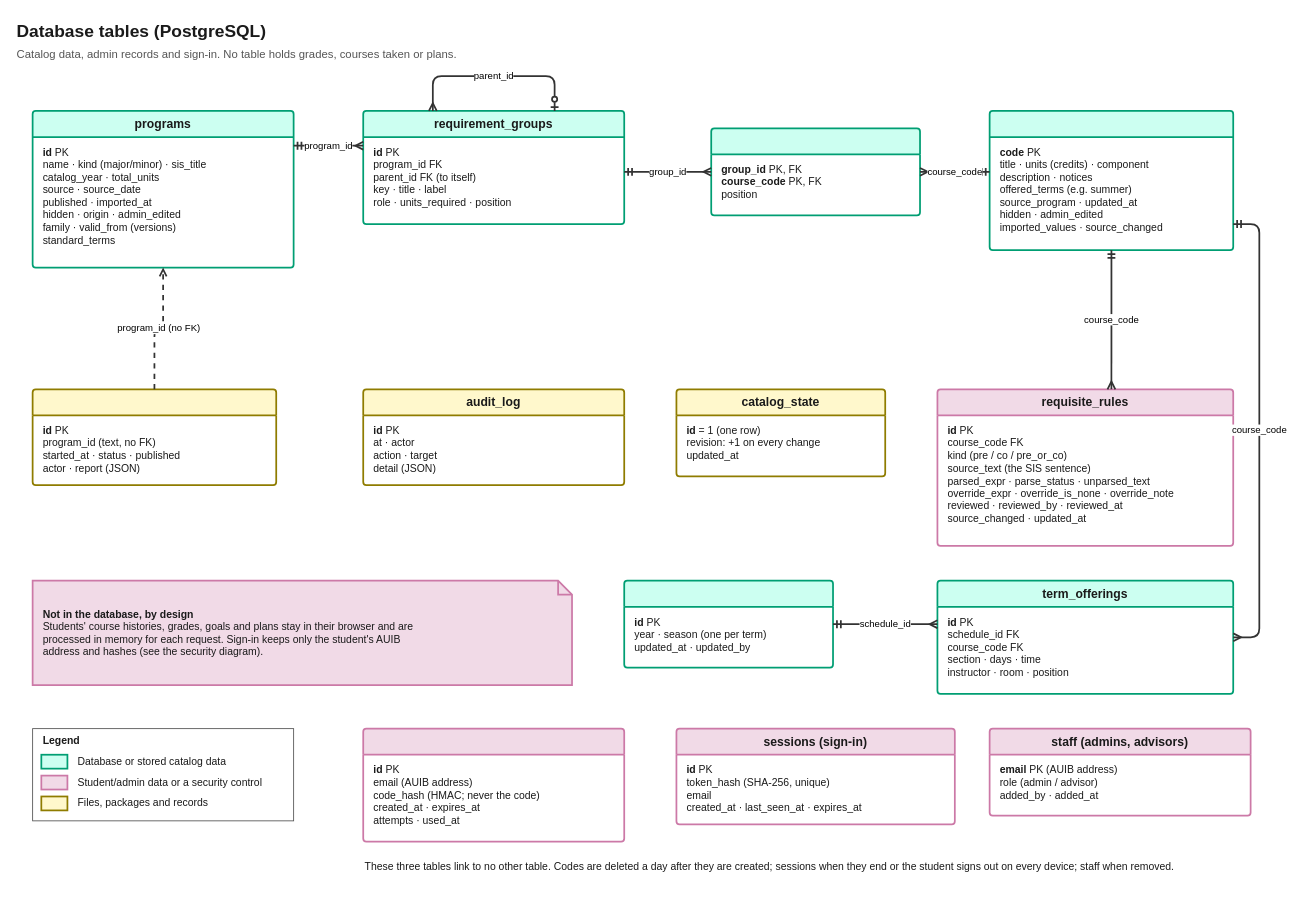
Image size: 1302x904. Some labels were removed from this diagram. The box of each missing label's shape, as (x1, y1, x2, y2) in pixels:
courses: (988, 110, 1234, 251)
group_courses: (710, 127, 920, 216)
import_runs: (31, 388, 277, 485)
login_codes (sign-in): (362, 727, 625, 842)
term_schedules: (623, 579, 833, 668)
